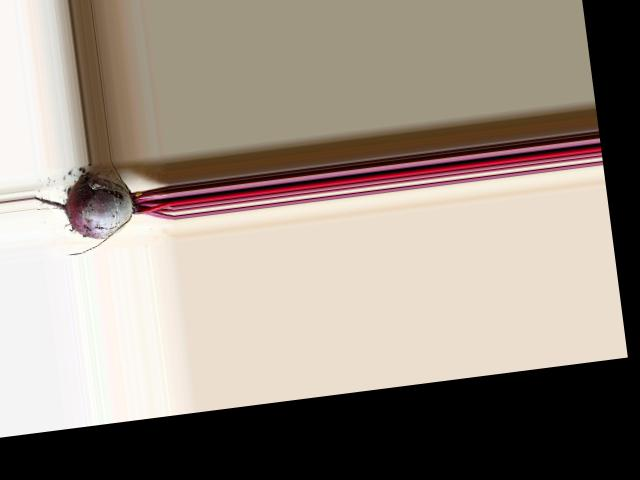beet: (31, 163, 176, 259)
